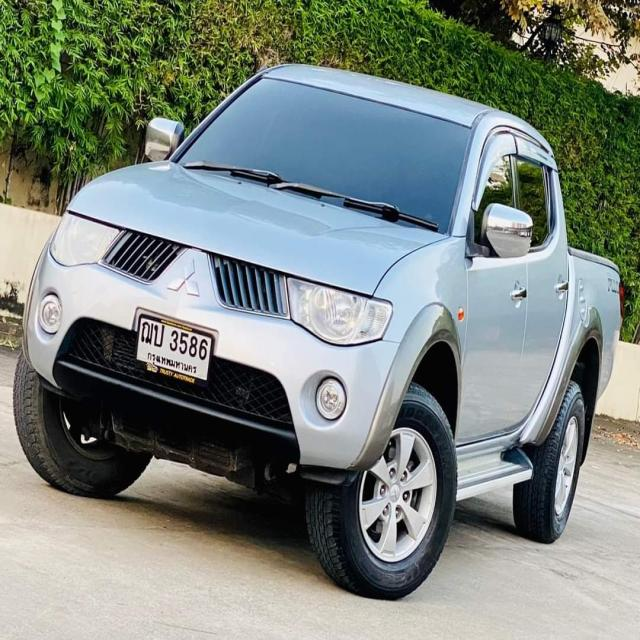license_plate: (130, 309, 217, 391)
